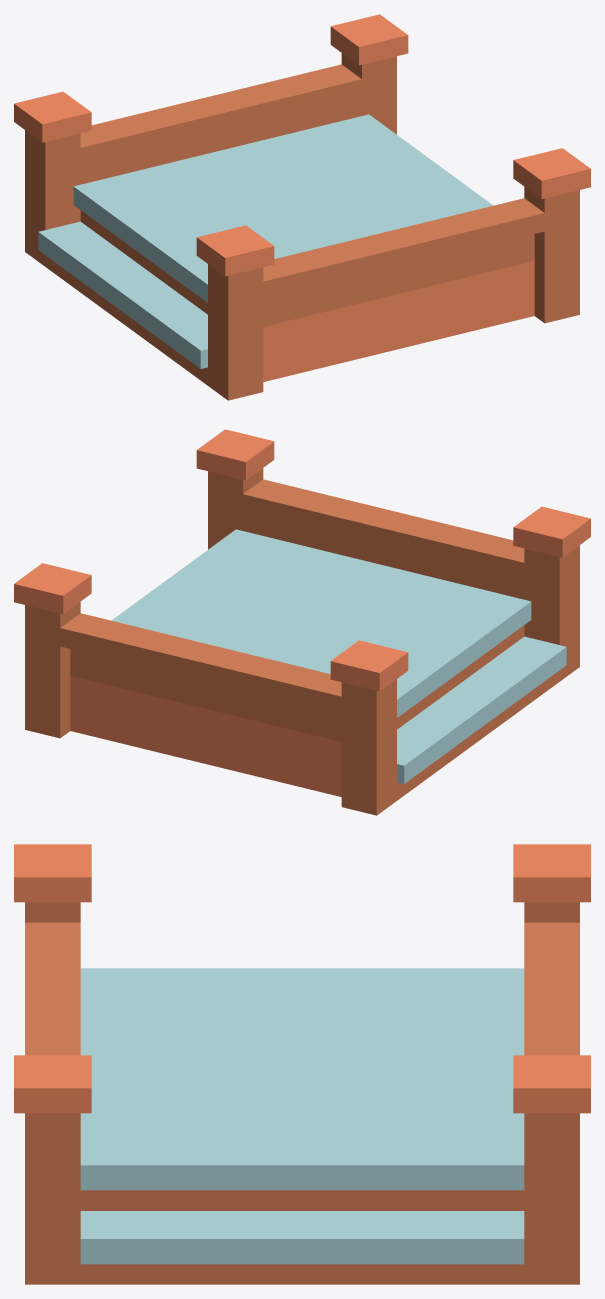
File: bridge_wood.obj
3 views of the same model, one above another, from view 1: azimuth 30°, elevation 25°; view 2: azimuth 150°, elevation 25°; view 3: azimuth 270°, elevation 25° (orthographic). The views are drawn at different scales.
Size of the model in its own units: 1.04 by 0.4 by 1.04.
